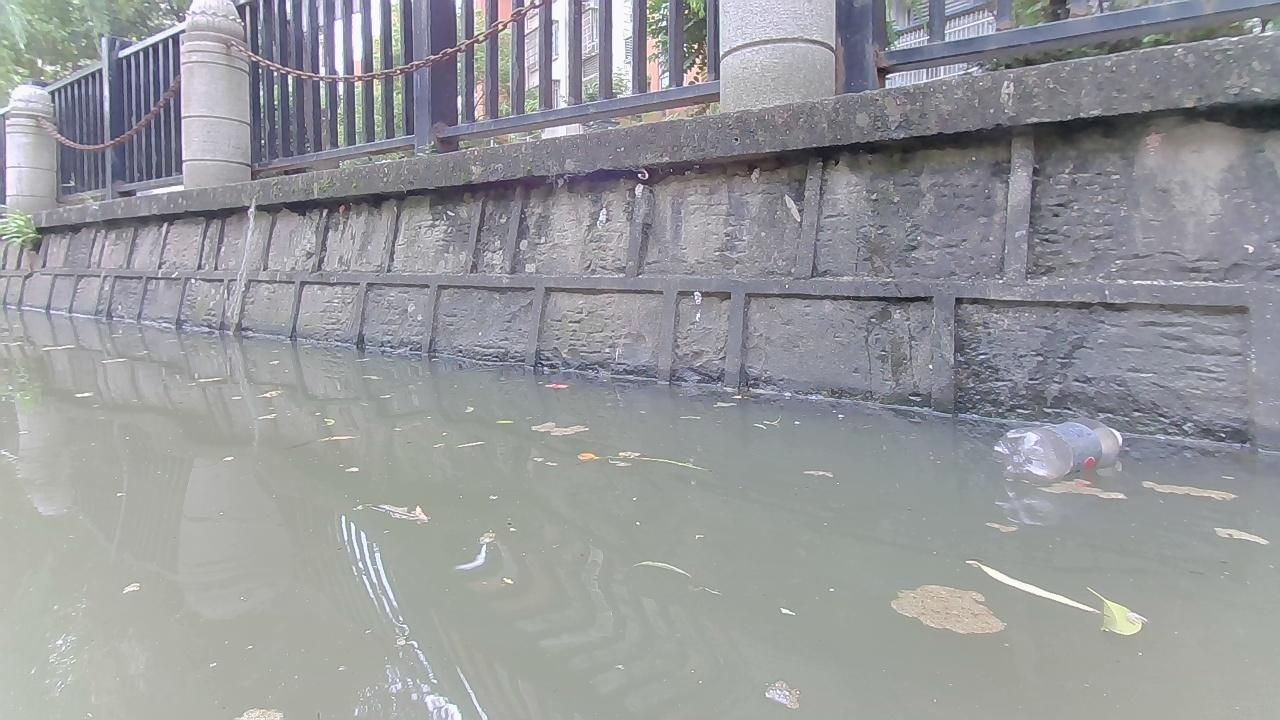bottle: (990, 418, 1124, 487)
